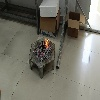fire: (45, 38, 49, 48)
